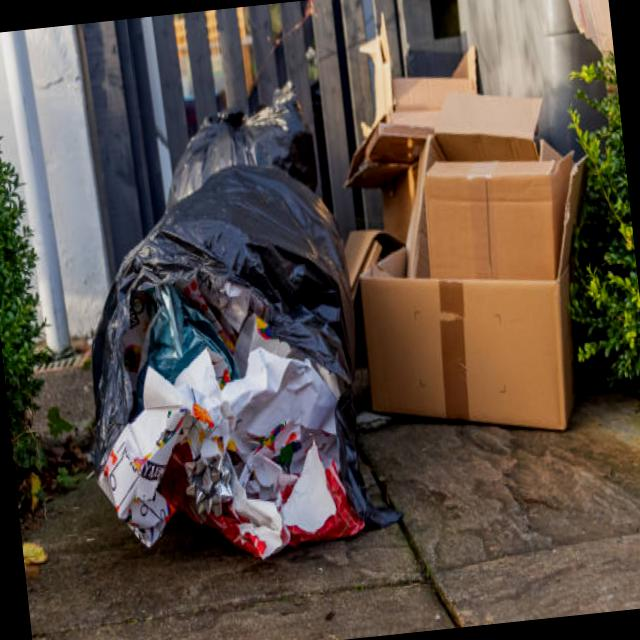garbage: (40, 26, 612, 602)
